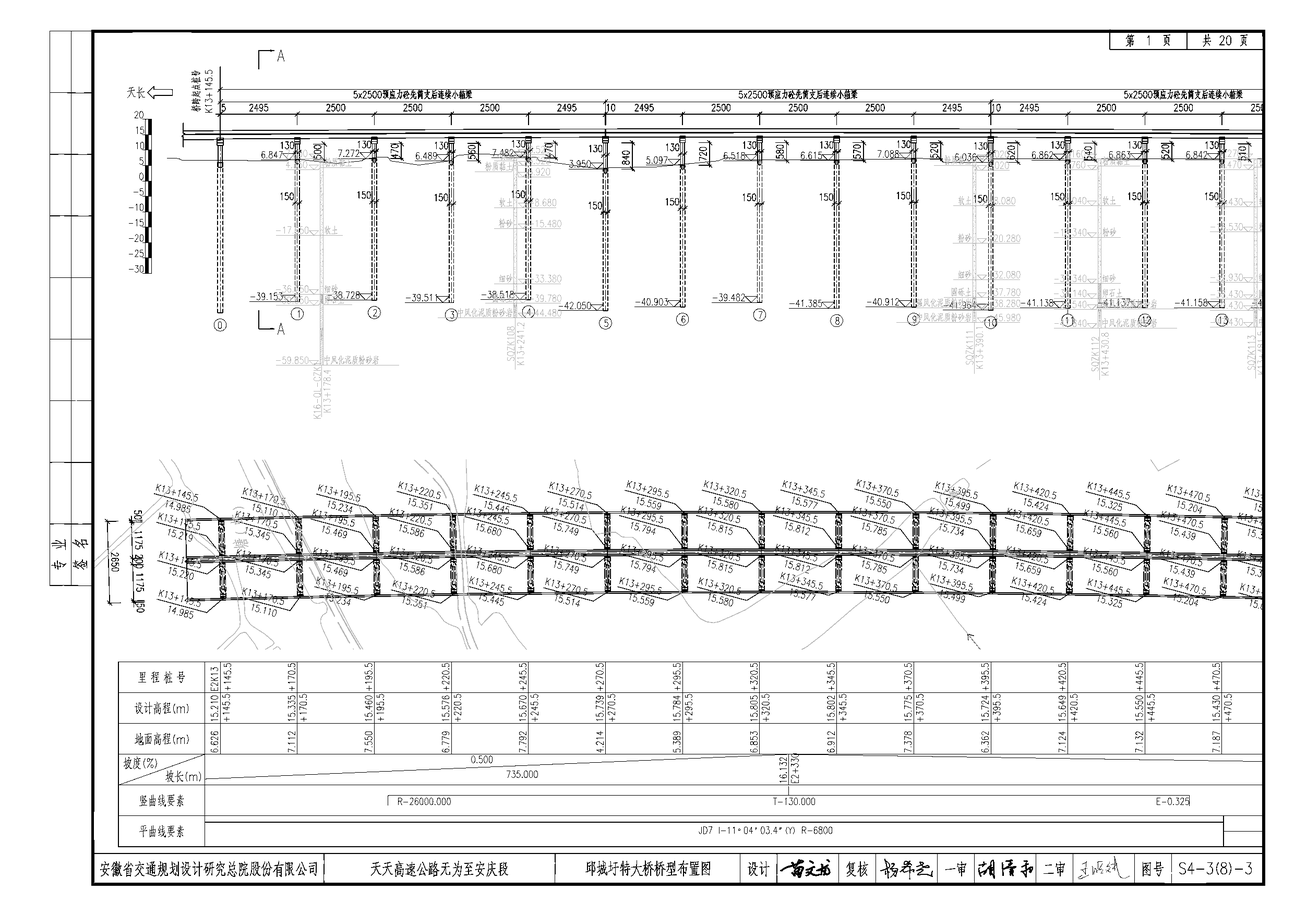A: (122, 44, 1269, 396)
